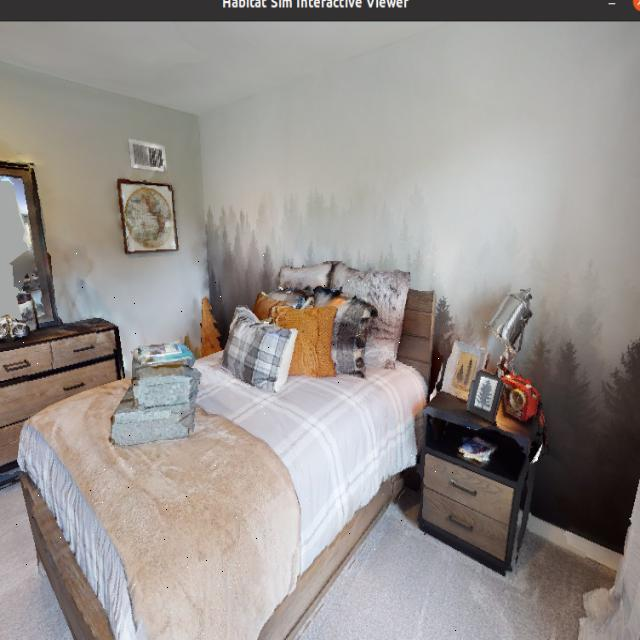bed: (5, 249, 460, 640)
